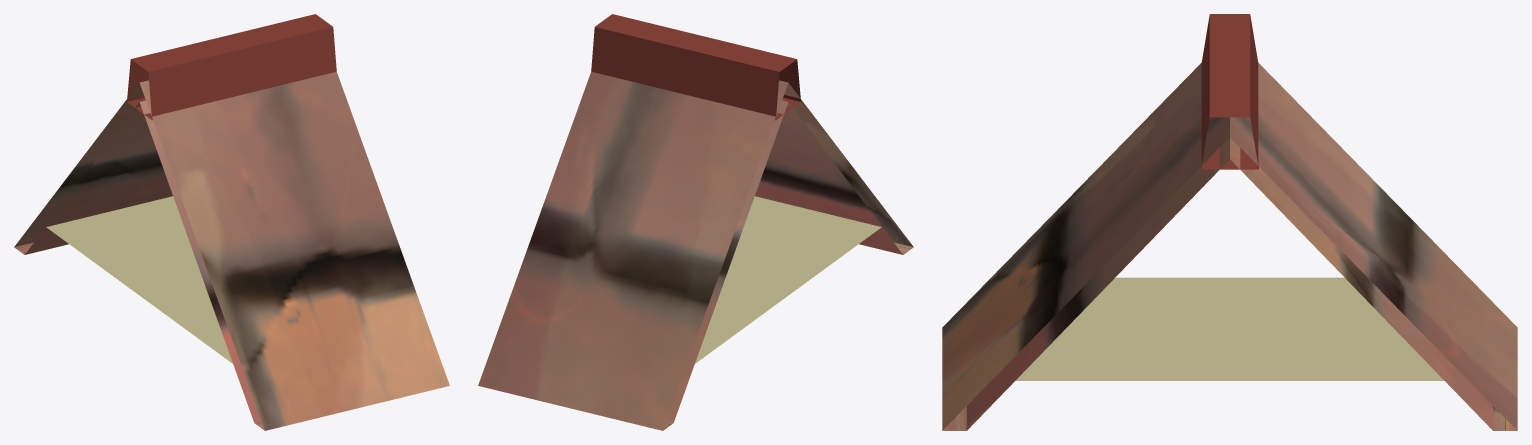
The model's file is roof_8x4x4.fbx.
3 views of the same model, side by side, from view 1: azimuth 30°, elevation 25°; view 2: azimuth 150°, elevation 25°; view 3: azimuth 270°, elevation 25° (orthographic). The views are drawn at different scales.
Visible parts, largest first — view 1: roof_8x4x4; view 2: roof_8x4x4; view 3: roof_8x4x4.
Boxes of the visible parts, x1,y1,x2,y2 form: roof_8x4x4: [14, 14, 449, 430]; roof_8x4x4: [478, 14, 913, 430]; roof_8x4x4: [942, 14, 1517, 430].
Size of the model in its own units: 400 by 565 by 940.
